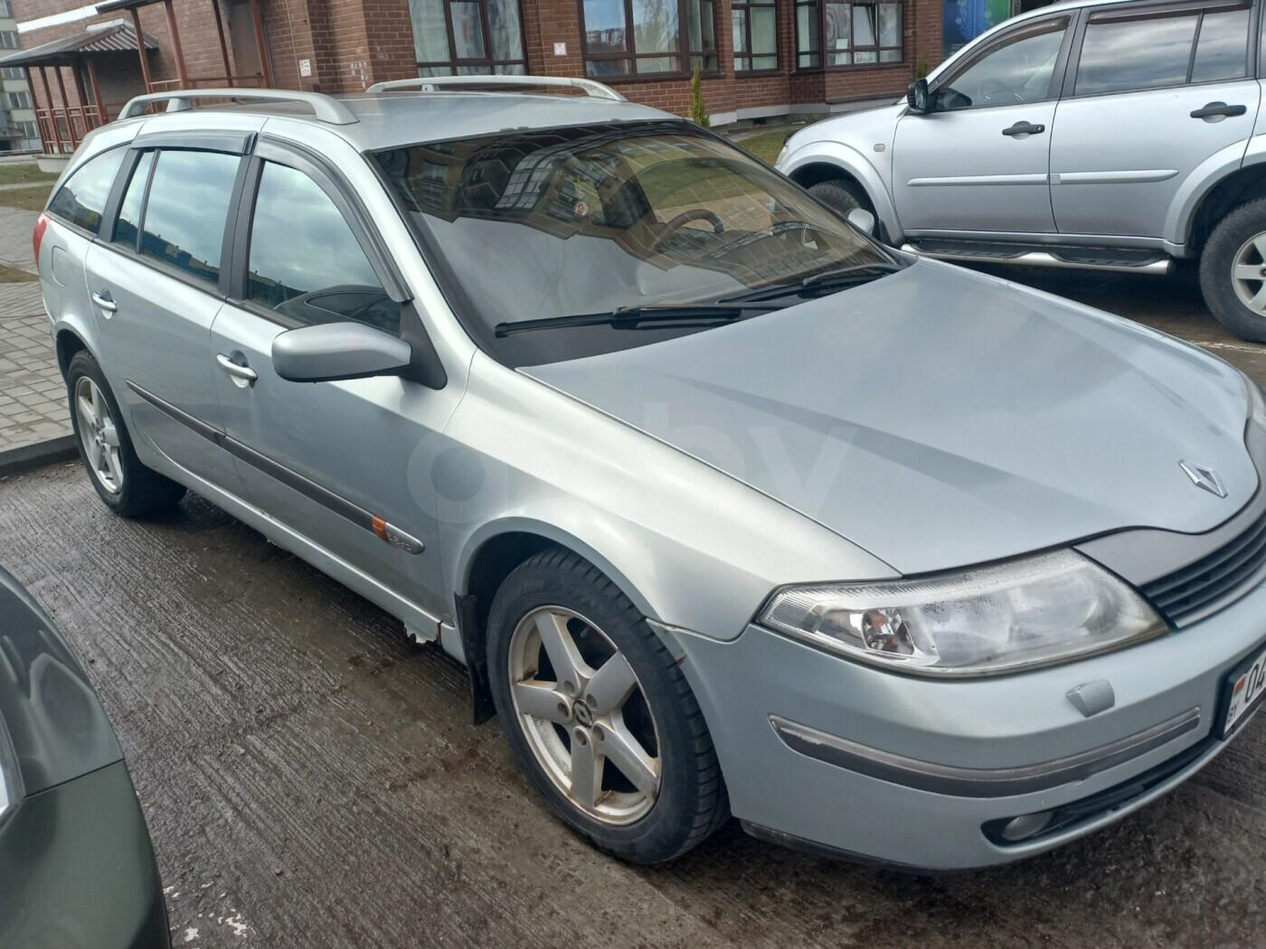Laguna_2001-2005: (33, 78, 1265, 870)
